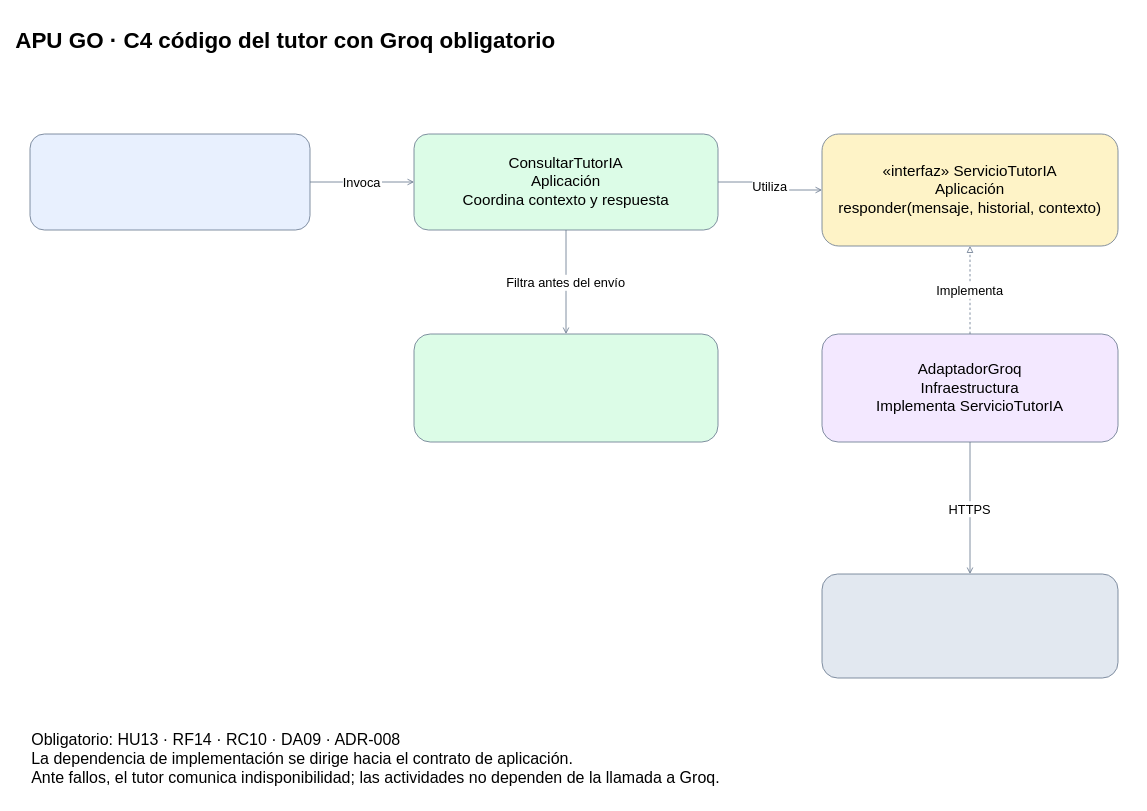
Some shapes in this 1147 by 811 pixel diagram are drawn without their labels. Each missing label, with the box of its shape:
ControladorTutorIA Presentación Recibe consulta autenticada: (29, 133, 310, 230)
FiltroDatosIA Aplicación Depura mensaje, historial y contexto: (413, 333, 718, 442)
Groq: API externa de IA Integración obligatoria HTTPS · Clave en servidor: (821, 573, 1118, 678)
